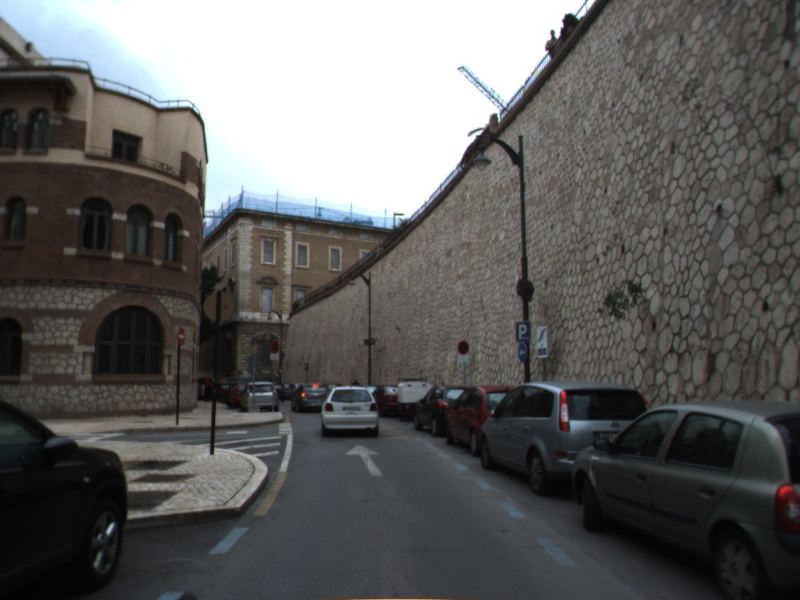STRAIGHT: (344, 442, 385, 478)
